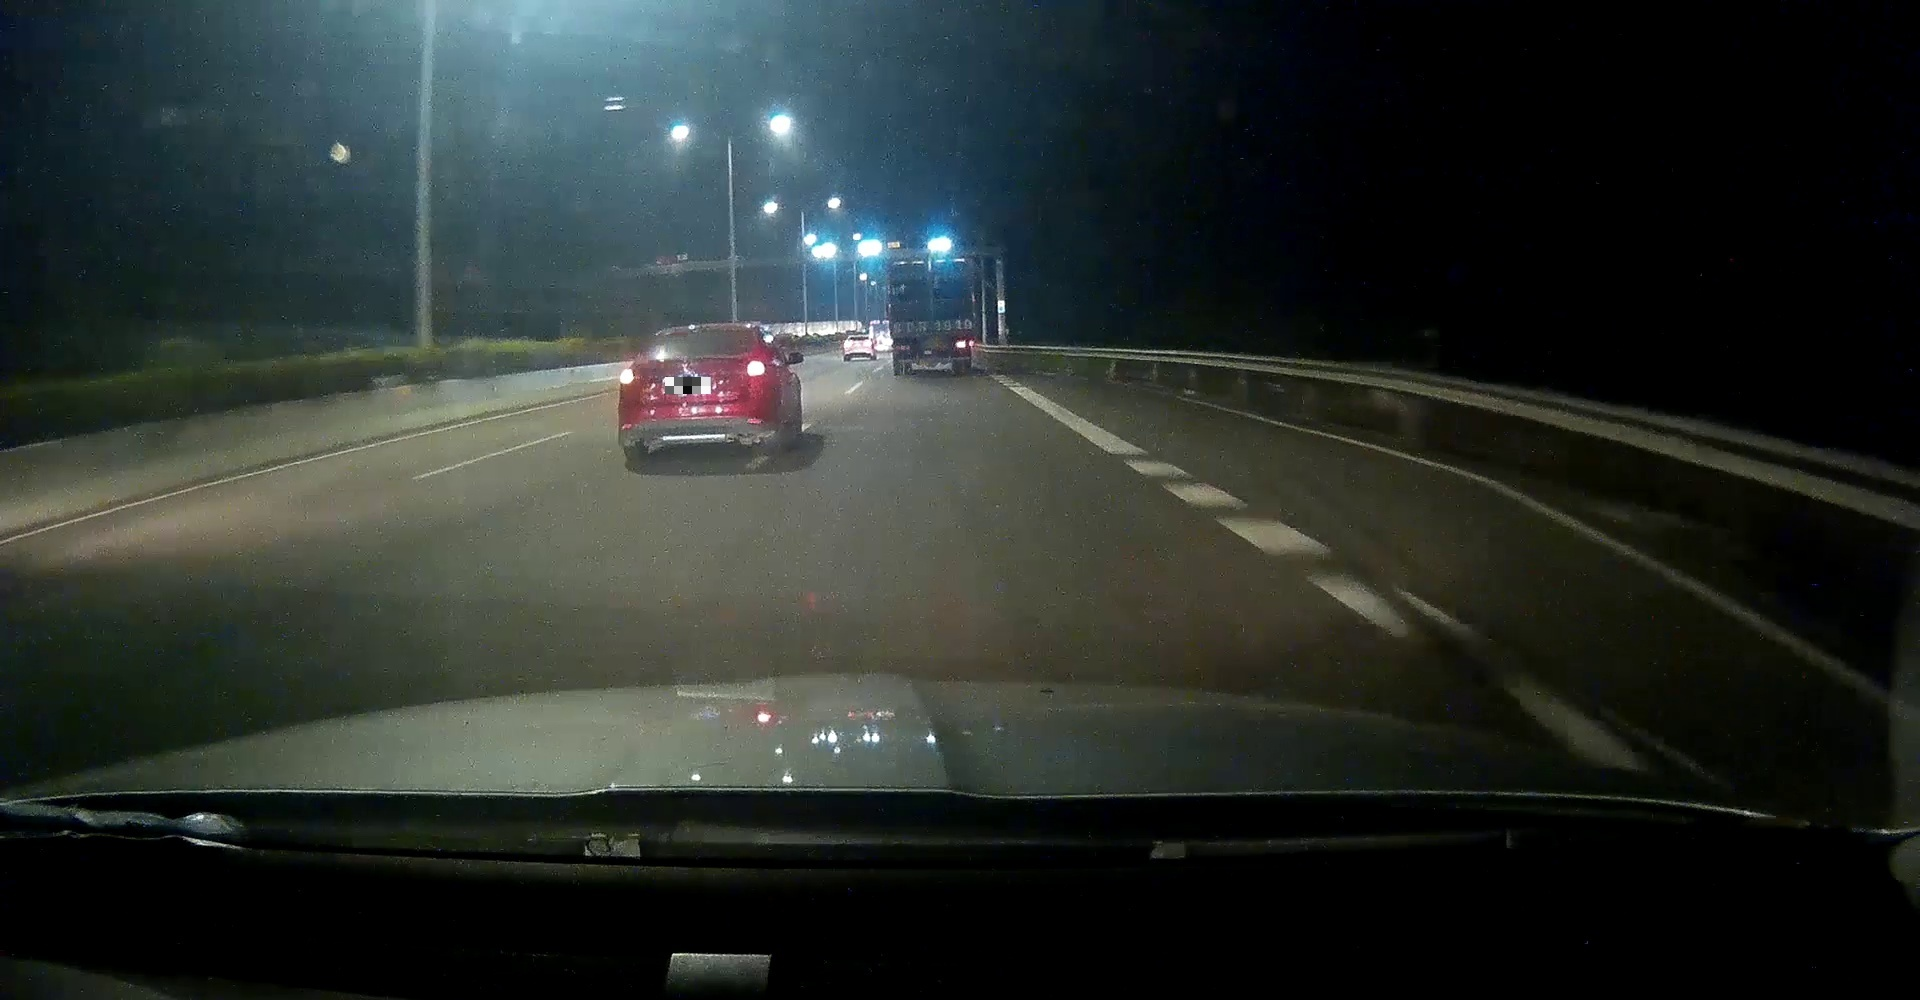L_light: (618, 368, 636, 385), (894, 343, 910, 352)
R_light: (745, 359, 766, 377), (954, 339, 974, 348)
T_light: (693, 329, 720, 335), (926, 259, 936, 263)
night-no: (616, 322, 770, 459)
night-right: (888, 255, 978, 376)
plate_1: (665, 377, 711, 393)
